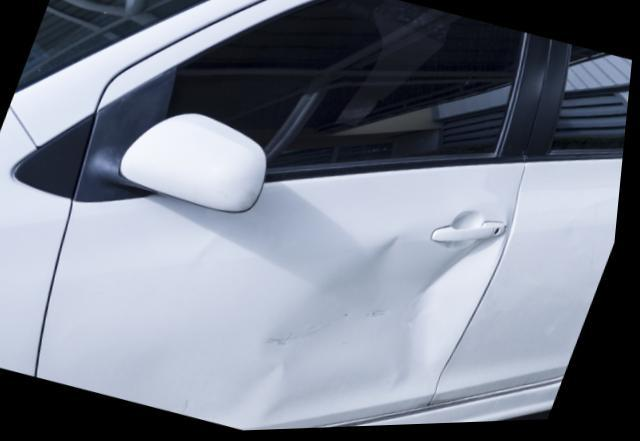dent: (138, 232, 496, 433)
